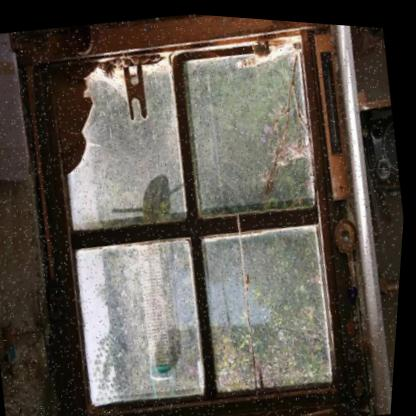Window: (23, 12, 372, 416)
